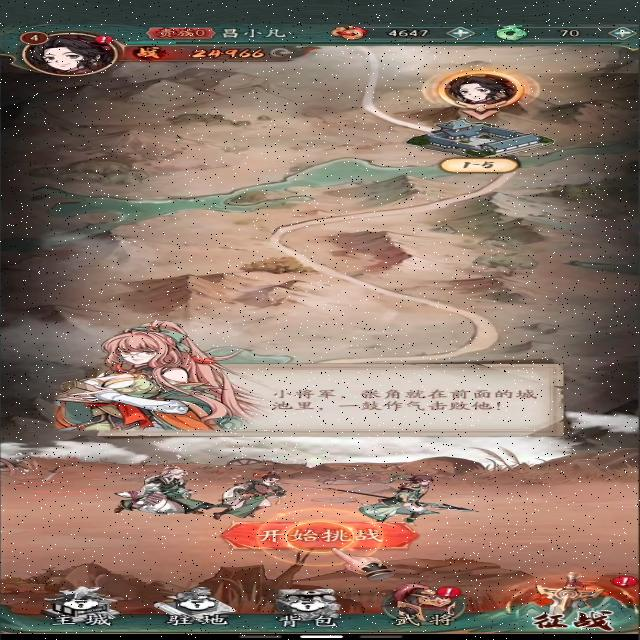hint-guide: (51, 318, 577, 439), (236, 507, 414, 569)
hint-reddot: (435, 585, 466, 599), (86, 34, 120, 46), (611, 576, 640, 589)
navigation-fight: (489, 572, 639, 632)
navigation-hero: (372, 581, 474, 627)
navigation-role: (9, 23, 130, 78)
navigation-station-off: (149, 583, 246, 629)
operation-confirm: (220, 522, 423, 550)
